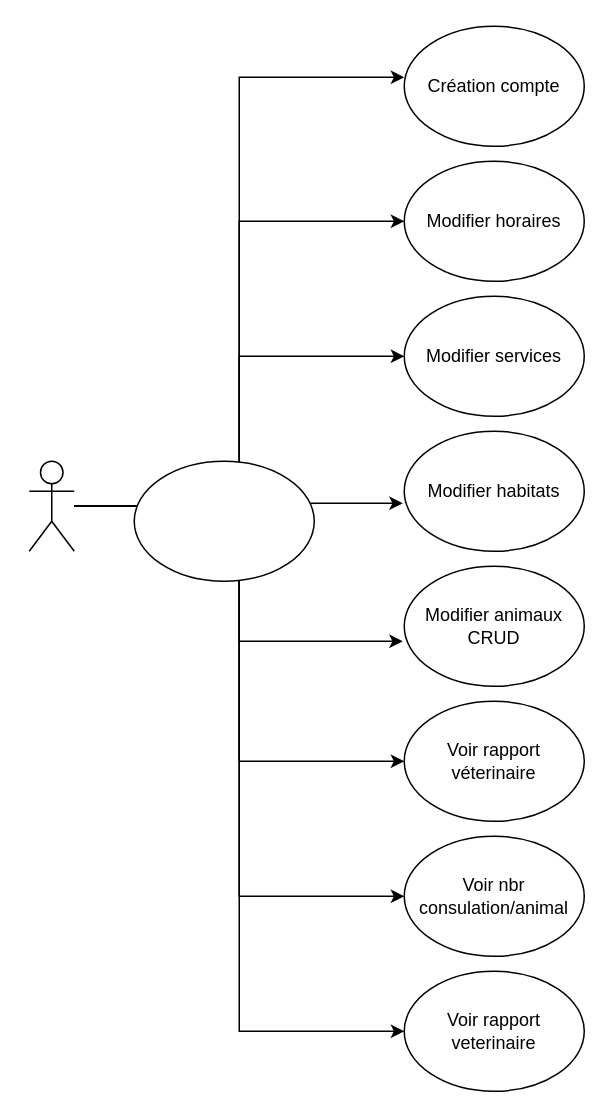
This 611x1118 diagram has some shape labels left out. The centre of each missing label's shape, as x and y in pixels:
Admin: the point at 51,505
Se connecter: the point at 223,520
